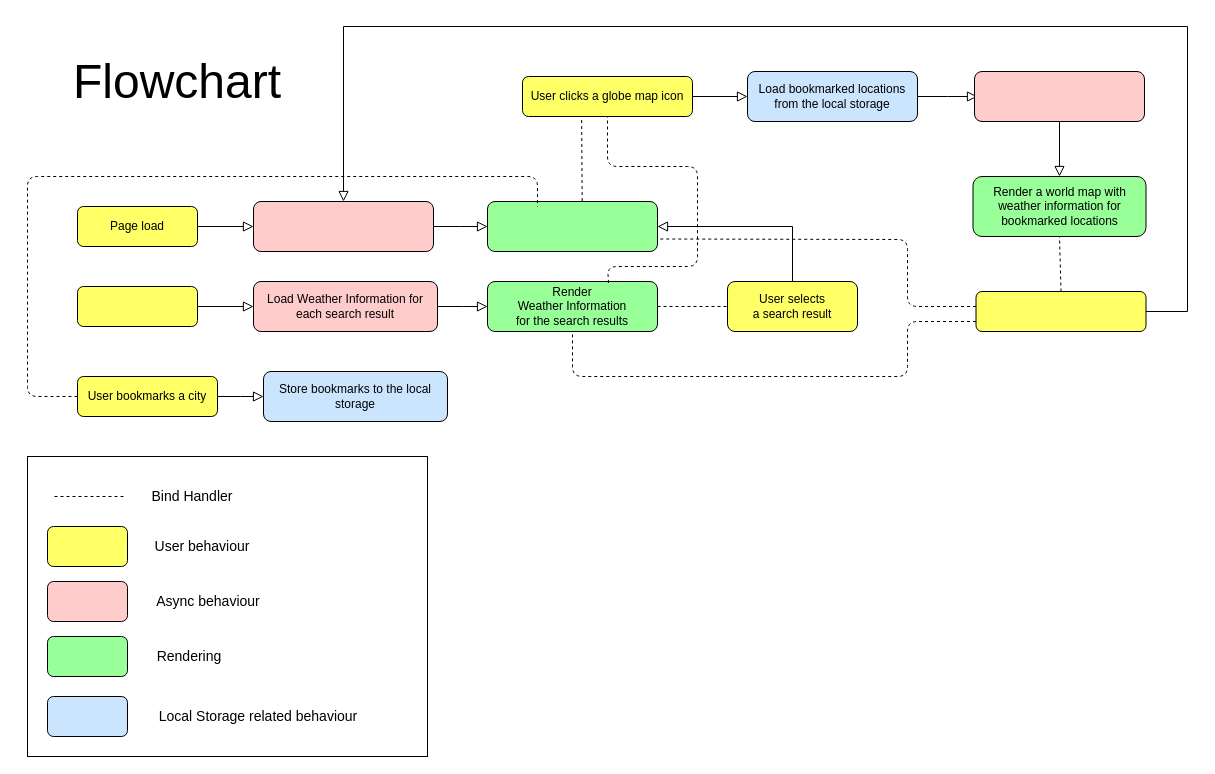
The diagram is 1215 pixels wide and 774 high, and some of its shapes have lost their labels. The centre of each missing label's shape, as x and y in pixels:
"Load Weather Information based on the current location" goes at pixel 343 226.
"Load weather information for bookmarked locations" goes at pixel 1059 96.
"Render Weather Information for the location" goes at pixel 572 226.
"User clicks a logo" goes at pixel 1060 311.
"User search a city" goes at pixel 137 306.
